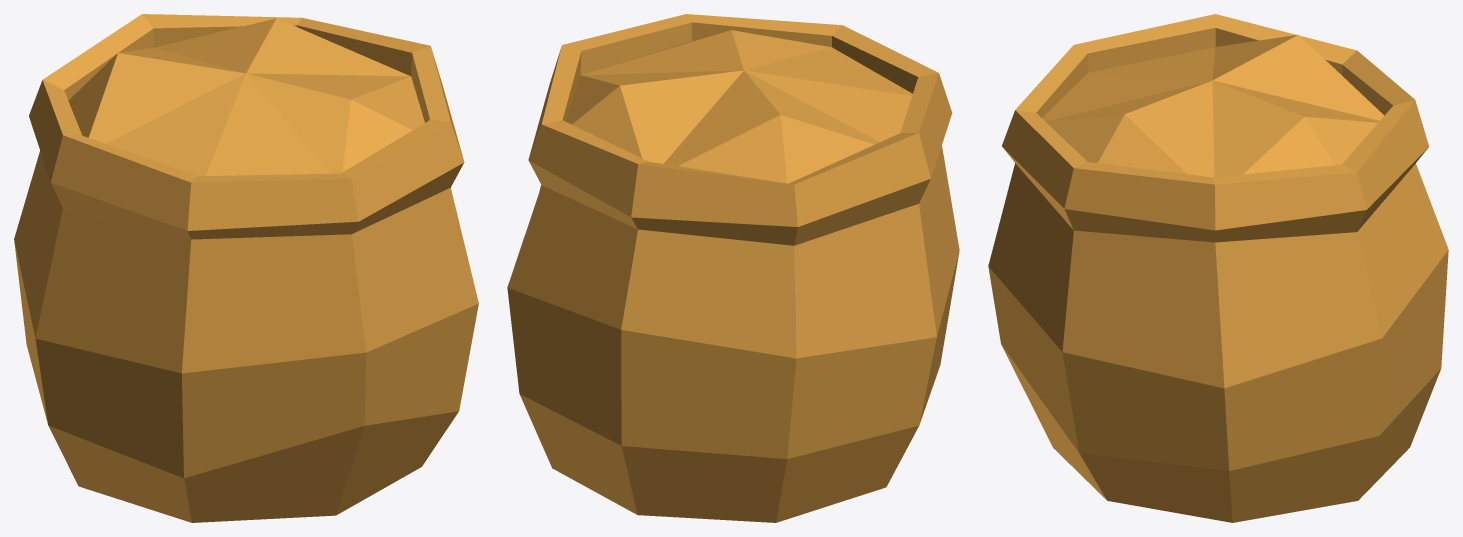
File: egypt-egypt-spice-medium.glb
The picture shows the model from 3 angles, left to right: view 1: azimuth 30°, elevation 25°; view 2: azimuth 150°, elevation 25°; view 3: azimuth 270°, elevation 25°; orthographic projection. The views are drawn at different scales.
Visible parts, largest first — view 1: egypt-spice-medium; view 2: egypt-spice-medium; view 3: egypt-spice-medium.
Boxes of the visible parts, x1,y1,x2,y2 form: egypt-spice-medium: (14, 14, 478, 522); egypt-spice-medium: (507, 14, 959, 522); egypt-spice-medium: (988, 14, 1448, 522).
Bounding box in the file's own units: 0.8386 × 0.7443 × 0.8356.
